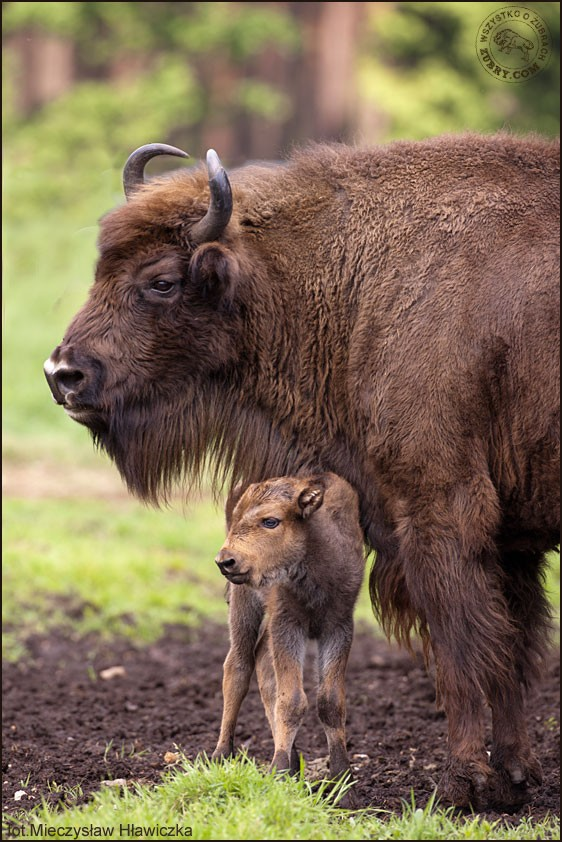zubr: (43, 89, 562, 798), (194, 449, 388, 778)
